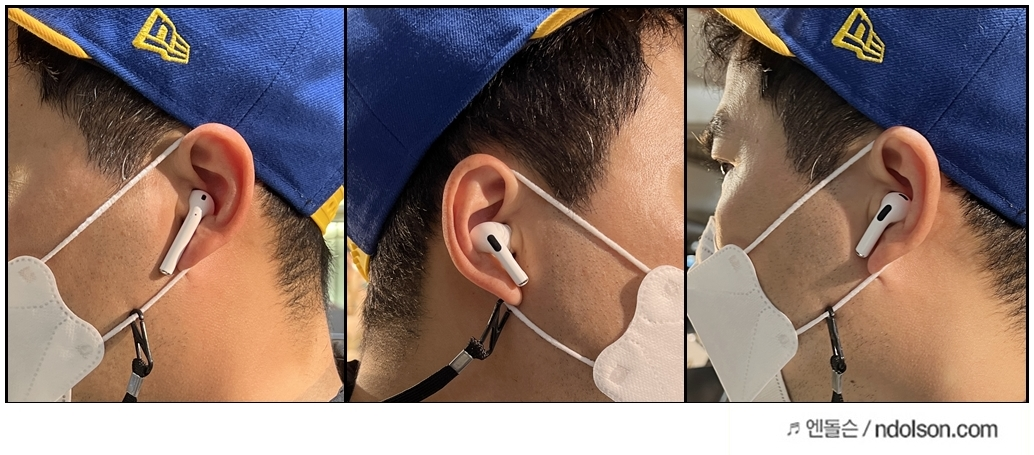earphone: (160, 123, 255, 272), (440, 153, 530, 306), (854, 124, 941, 273)
